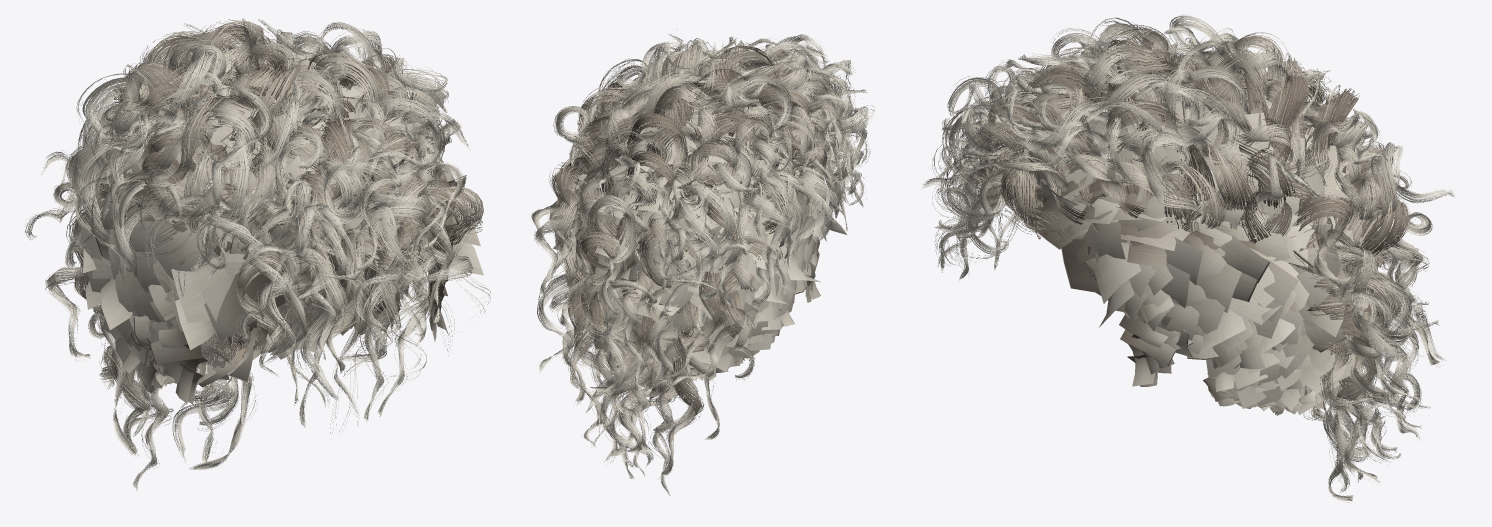
File: dint_hair_17.glb
3 views of the same model, side by side, from view 1: azimuth 30°, elevation 25°; view 2: azimuth 150°, elevation 25°; view 3: azimuth 270°, elevation 25° (orthographic). The views are drawn at different scales.
Visible parts, largest first — view 1: HL2_Hl2, 17M_3_17M_3, 17M_2_17M_2, 17L_3_17L_3, 17F_3_17F_3, 17L_2_17L_2, 17R_3_17R_3, 17F_2_17F_2, 17F_1_17F_1, 17M_1_17M_1, 17R_2_17R_2, 17L_1_17L_1 (+8 smaller); view 2: HL2_Hl2, 17D_3_17D_3, 17B_3_17B_3, 17D_2_17D_2, 17M_3_17M_3, 17B_2_17B_2, 17R_3_17R_3, 17L_3_17L_3, 17M_2_17M_2, 17R_2_17R_2, 17L_2_17L_2, 17B_1_17B_1 (+6 smaller); view 3: HL2_Hl2, 17R_3_17R_3, 17R_2_17R_2, 17D_3_17D_3, 17M_3_17M_3, 17M_2_17M_2, 17R_1_17R_1, 17D_2_17D_2, 17B_3_17B_3, 17F_3_17F_3, 17B_2_17B_2, 17M_1_17M_1 (+7 smaller).
Boxes of the visible parts, box(x1,y1,x2,y2) form: HL2_Hl2: box(81, 51, 483, 403); 17M_3_17M_3: box(89, 19, 426, 331); 17M_2_17M_2: box(92, 18, 426, 331); 17L_3_17L_3: box(67, 64, 345, 339); 17F_3_17F_3: box(238, 174, 480, 427); 17L_2_17L_2: box(68, 62, 347, 338); 17R_3_17R_3: box(119, 19, 470, 254); 17F_2_17F_2: box(236, 173, 483, 426); 17F_1_17F_1: box(237, 178, 490, 433); 17M_1_17M_1: box(90, 29, 424, 332); 17R_2_17R_2: box(118, 20, 467, 252); 17L_1_17L_1: box(65, 62, 351, 327); HL2_Hl2: box(550, 72, 846, 399); 17D_3_17D_3: box(539, 195, 753, 495); 17B_3_17B_3: box(532, 145, 802, 346); 17D_2_17D_2: box(537, 198, 754, 494); 17M_3_17M_3: box(627, 35, 868, 269); 17B_2_17B_2: box(531, 144, 802, 341); 17R_3_17R_3: box(556, 34, 797, 240); 17L_3_17L_3: box(675, 65, 867, 246); 17M_2_17M_2: box(624, 34, 869, 267); 17R_2_17R_2: box(554, 36, 801, 227); 17L_2_17L_2: box(677, 61, 868, 248); 17B_1_17B_1: box(530, 117, 815, 327); HL2_Hl2: box(1011, 67, 1377, 415); 17R_3_17R_3: box(958, 41, 1387, 242); 17R_2_17R_2: box(958, 40, 1387, 244); 17D_3_17D_3: box(1289, 198, 1445, 500); 17M_3_17M_3: box(942, 17, 1356, 182); 17M_2_17M_2: box(942, 14, 1358, 185); 17R_1_17R_1: box(958, 43, 1380, 242); 17D_2_17D_2: box(1289, 196, 1438, 502); 17B_3_17B_3: box(1298, 94, 1454, 330); 17F_3_17F_3: box(920, 111, 1041, 281); 17B_2_17B_2: box(1290, 91, 1453, 327); 17M_1_17M_1: box(944, 17, 1359, 172).
Bounding box in the file's own units: 0.2138 × 0.3004 × 0.3141.
20 materials, 20 textured.
